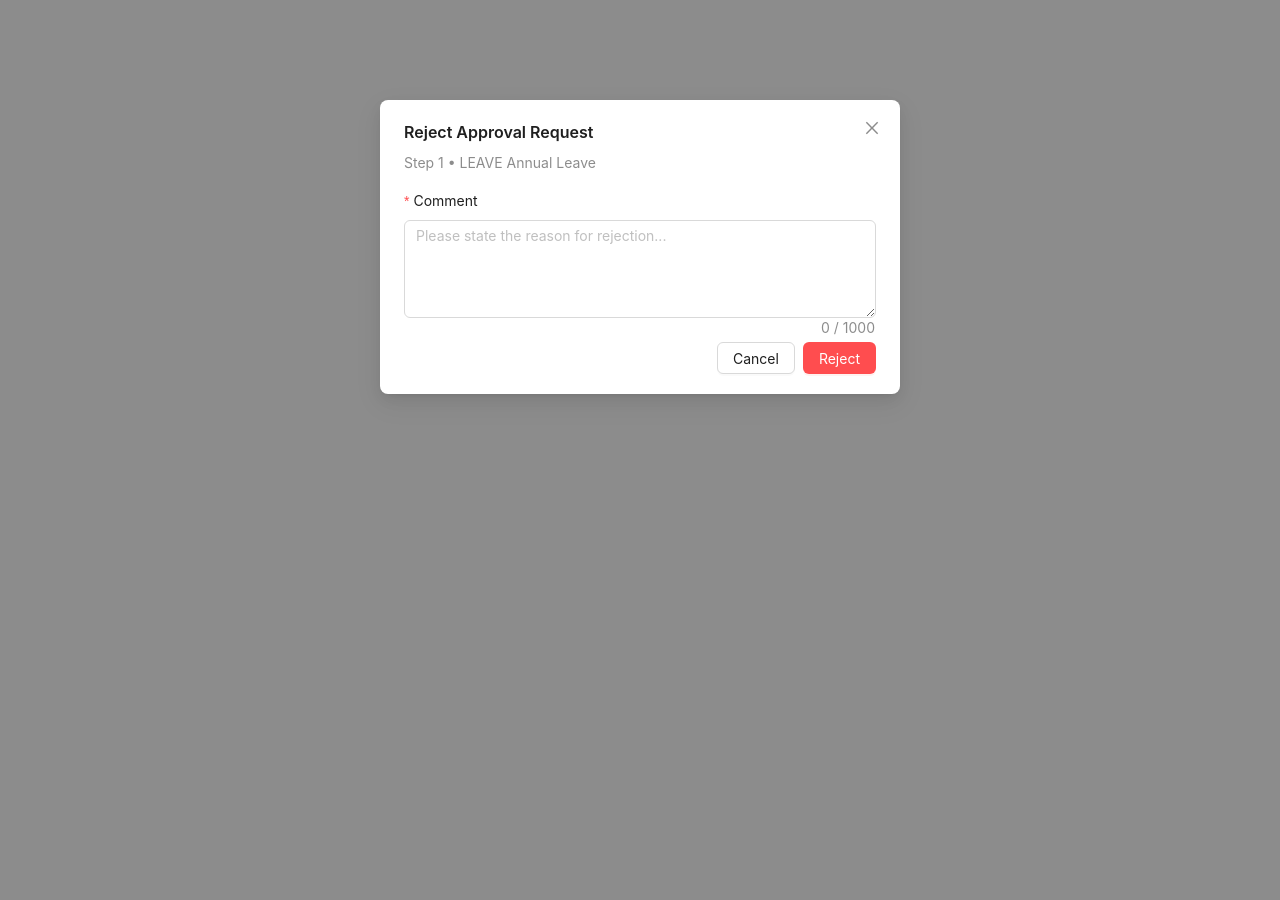
DecideModal component › blocks rejection when comment is missing
The image size is (1280, 900).
Click the button with id "btn-confirm-decide" at (839, 358), box [803,342,876,374]
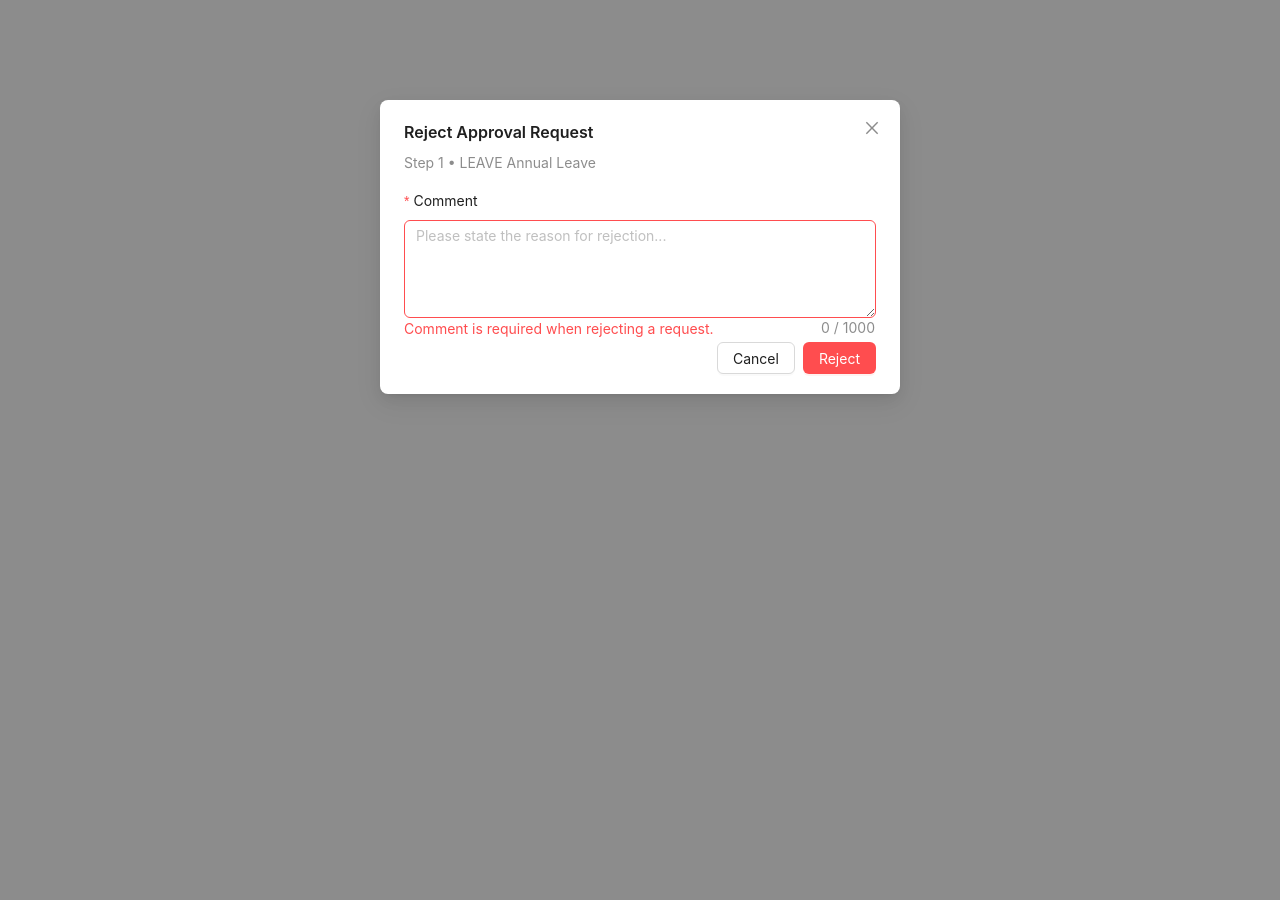
Check: the text "Comment is required when rejecting a request." is shown, box [404,320,714,337]
